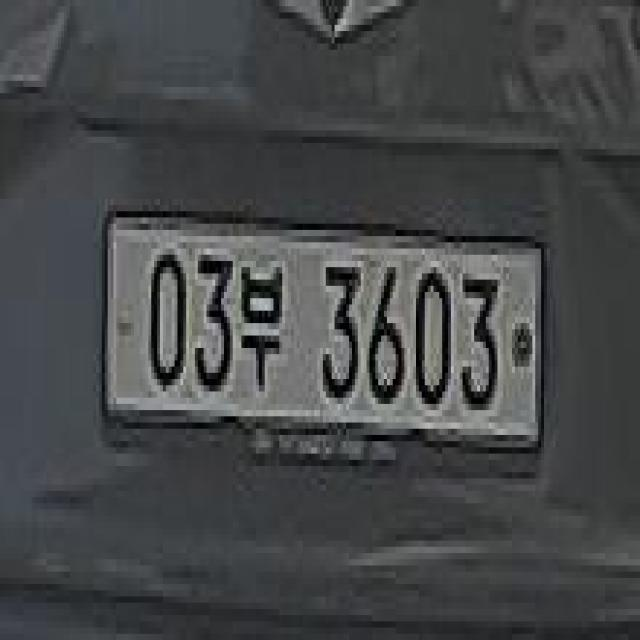illegal_plate: (98, 201, 551, 486)
